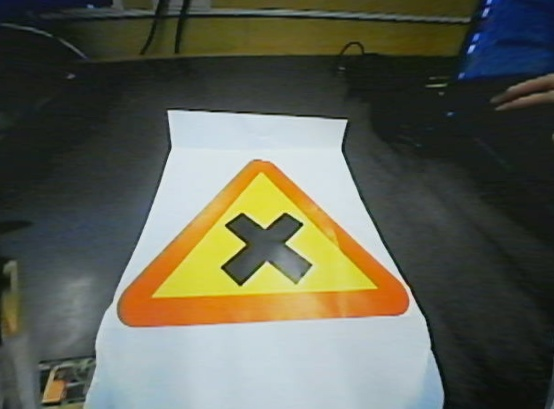junction: (116, 161, 413, 332)
